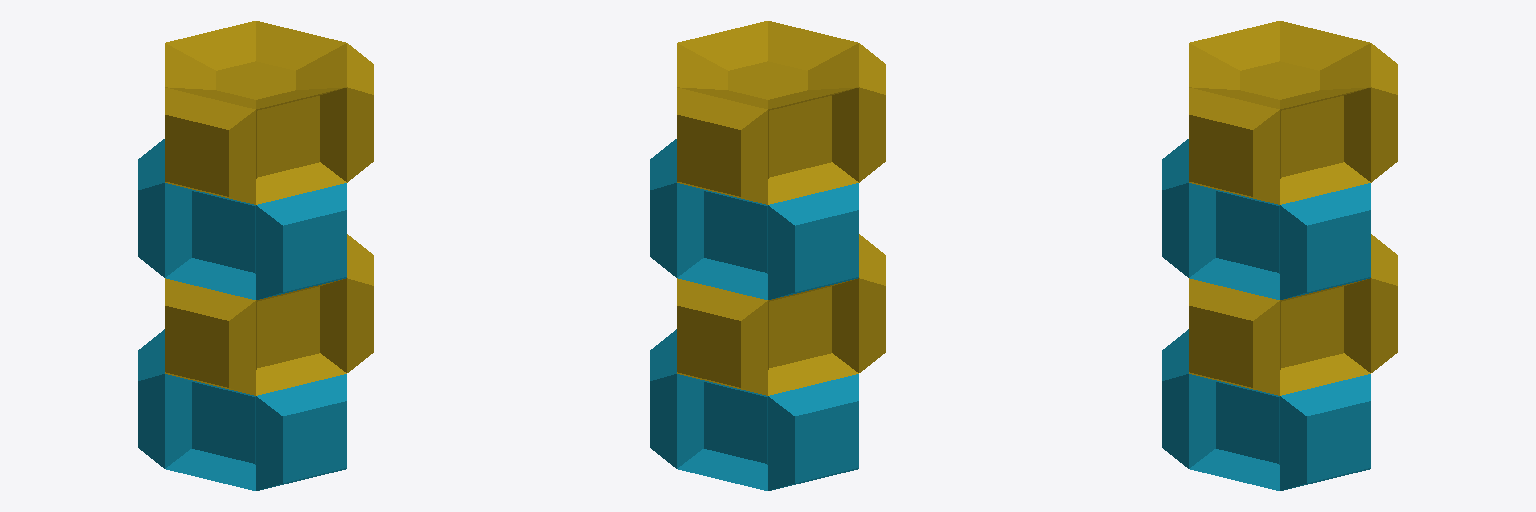
File: Blocks.obj
3 views of the same model, side by side, from view 1: azimuth 30°, elevation 25°; view 2: azimuth 150°, elevation 25°; view 3: azimuth 270°, elevation 25° (orthographic).
Visible parts, largest first — view 1: Cylinder002, Cylinder001; view 2: Cylinder002, Cylinder001; view 3: Cylinder002, Cylinder001.
Part boxes in pixels (left/top/right/bottom): Cylinder002: left=165, top=21, right=373, bottom=395; Cylinder001: left=138, top=139, right=346, bottom=490; Cylinder002: left=677, top=21, right=885, bottom=395; Cylinder001: left=650, top=139, right=858, bottom=490; Cylinder002: left=1189, top=21, right=1397, bottom=395; Cylinder001: left=1162, top=139, right=1370, bottom=490.
Size of the model in its own units: 4.57 by 8 by 4.46.